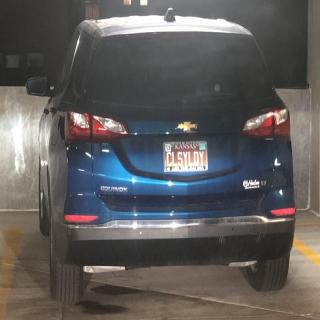license: (164, 141, 210, 175)
